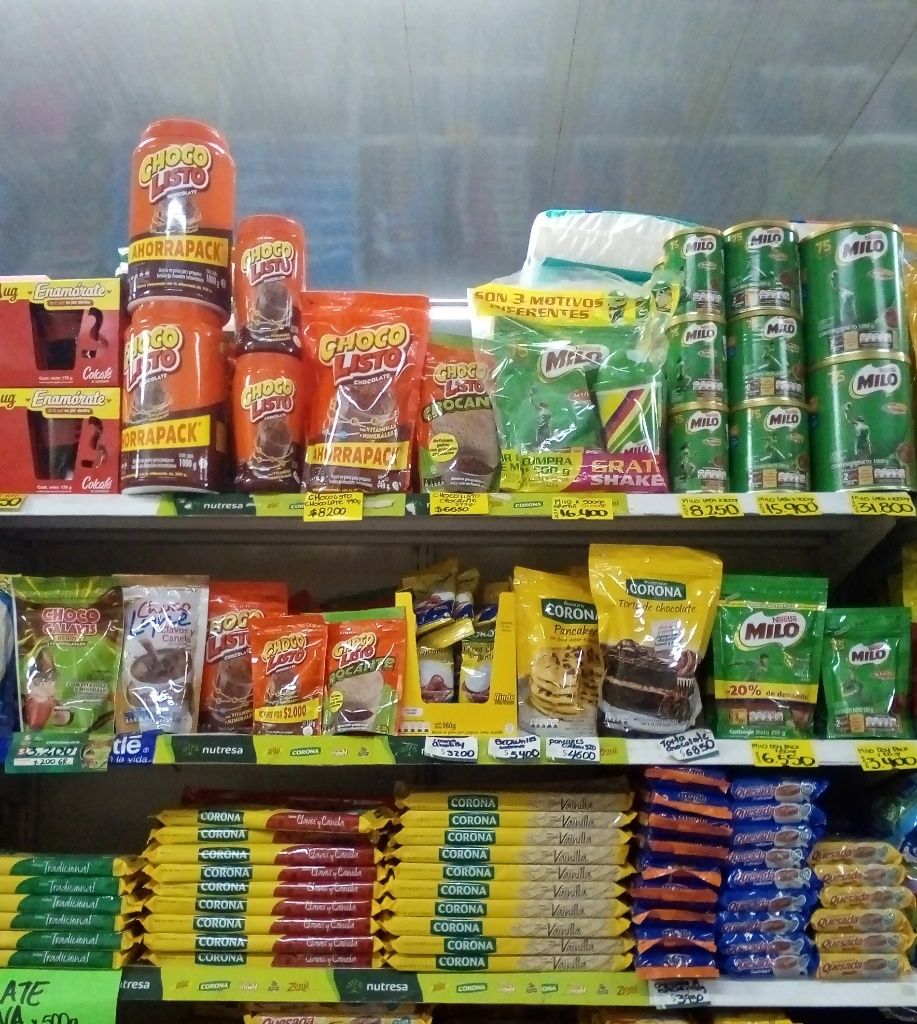COL0170102DYP10000: (320, 611, 406, 738)
COL0170102DYP25000: (423, 329, 509, 498)
COL0170103DYP20000: (202, 580, 297, 731)
COL0170103DYP44000: (298, 290, 429, 490)
COL0170103TRR00100: (123, 116, 235, 305)
COL0170103TRR30000: (235, 213, 309, 354)
COL0170203DYP10000: (820, 605, 915, 741)
COL0170203DYP25000: (712, 569, 829, 741)
COL0170203DYP50000: (493, 295, 601, 470)
COL0170203LAT20000: (661, 227, 734, 317)
COL0170203LAT40000: (721, 220, 807, 313)
